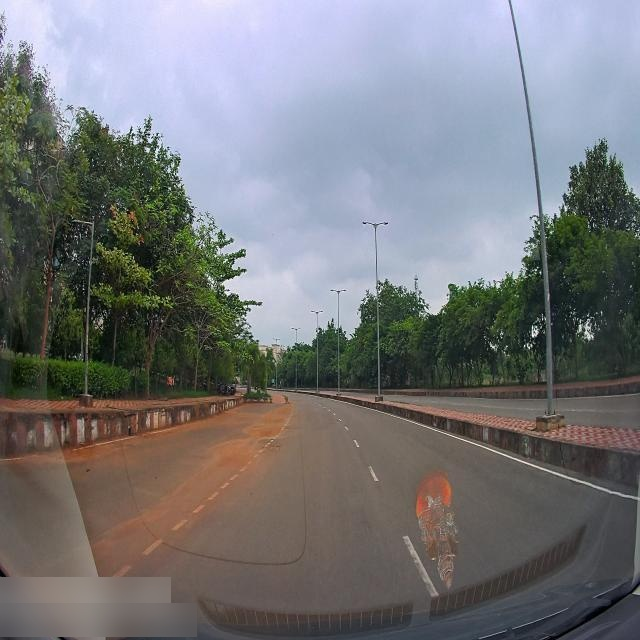pothole: (262, 441, 282, 457)
